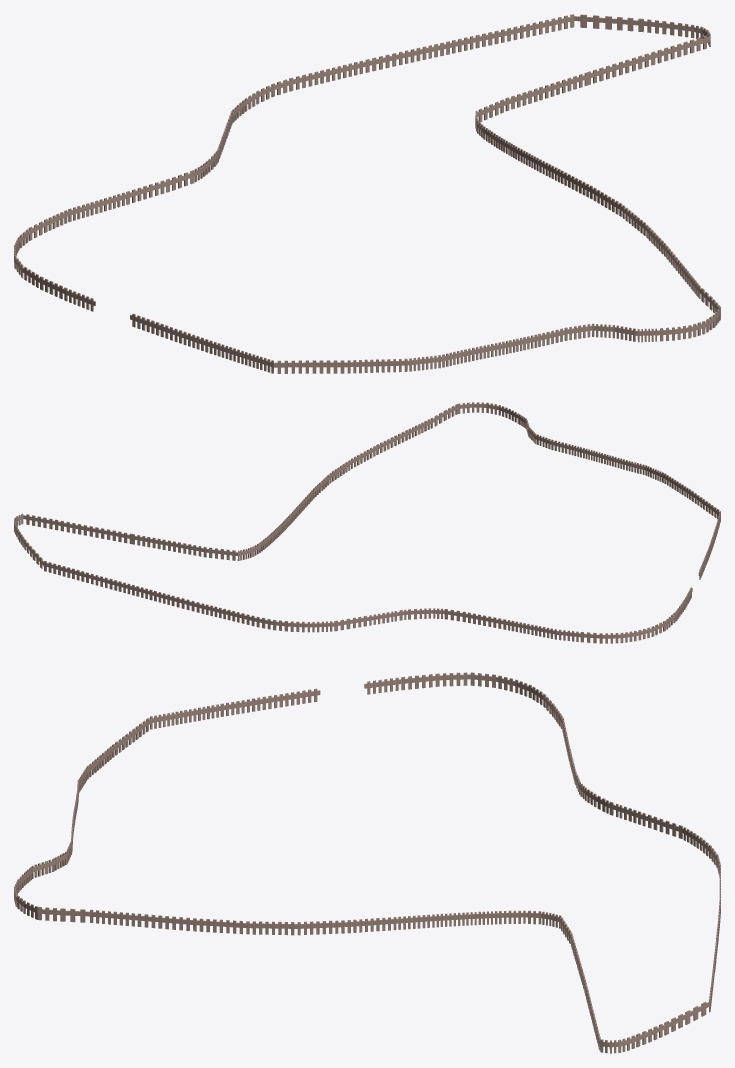
Rendered from Valla.fbx.
3 views of the same model, one above another, from view 1: azimuth 30°, elevation 25°; view 2: azimuth 150°, elevation 25°; view 3: azimuth 270°, elevation 25° (orthographic). The views are drawn at different scales.
Visible parts, largest first — view 1: polySurface4; view 2: polySurface4; view 3: polySurface4.
Boxes of the visible parts, x1,y1,x2,y2 form: polySurface4: (14, 14, 720, 373); polySurface4: (14, 402, 720, 643); polySurface4: (14, 672, 720, 1053).
Bounding box in the file's own units: 31.89 × 0.5126 × 25.85.
